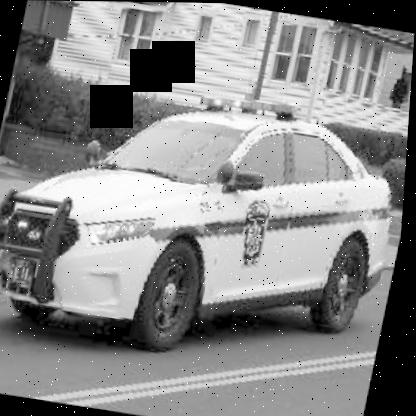emergency: (0, 55, 412, 378)
